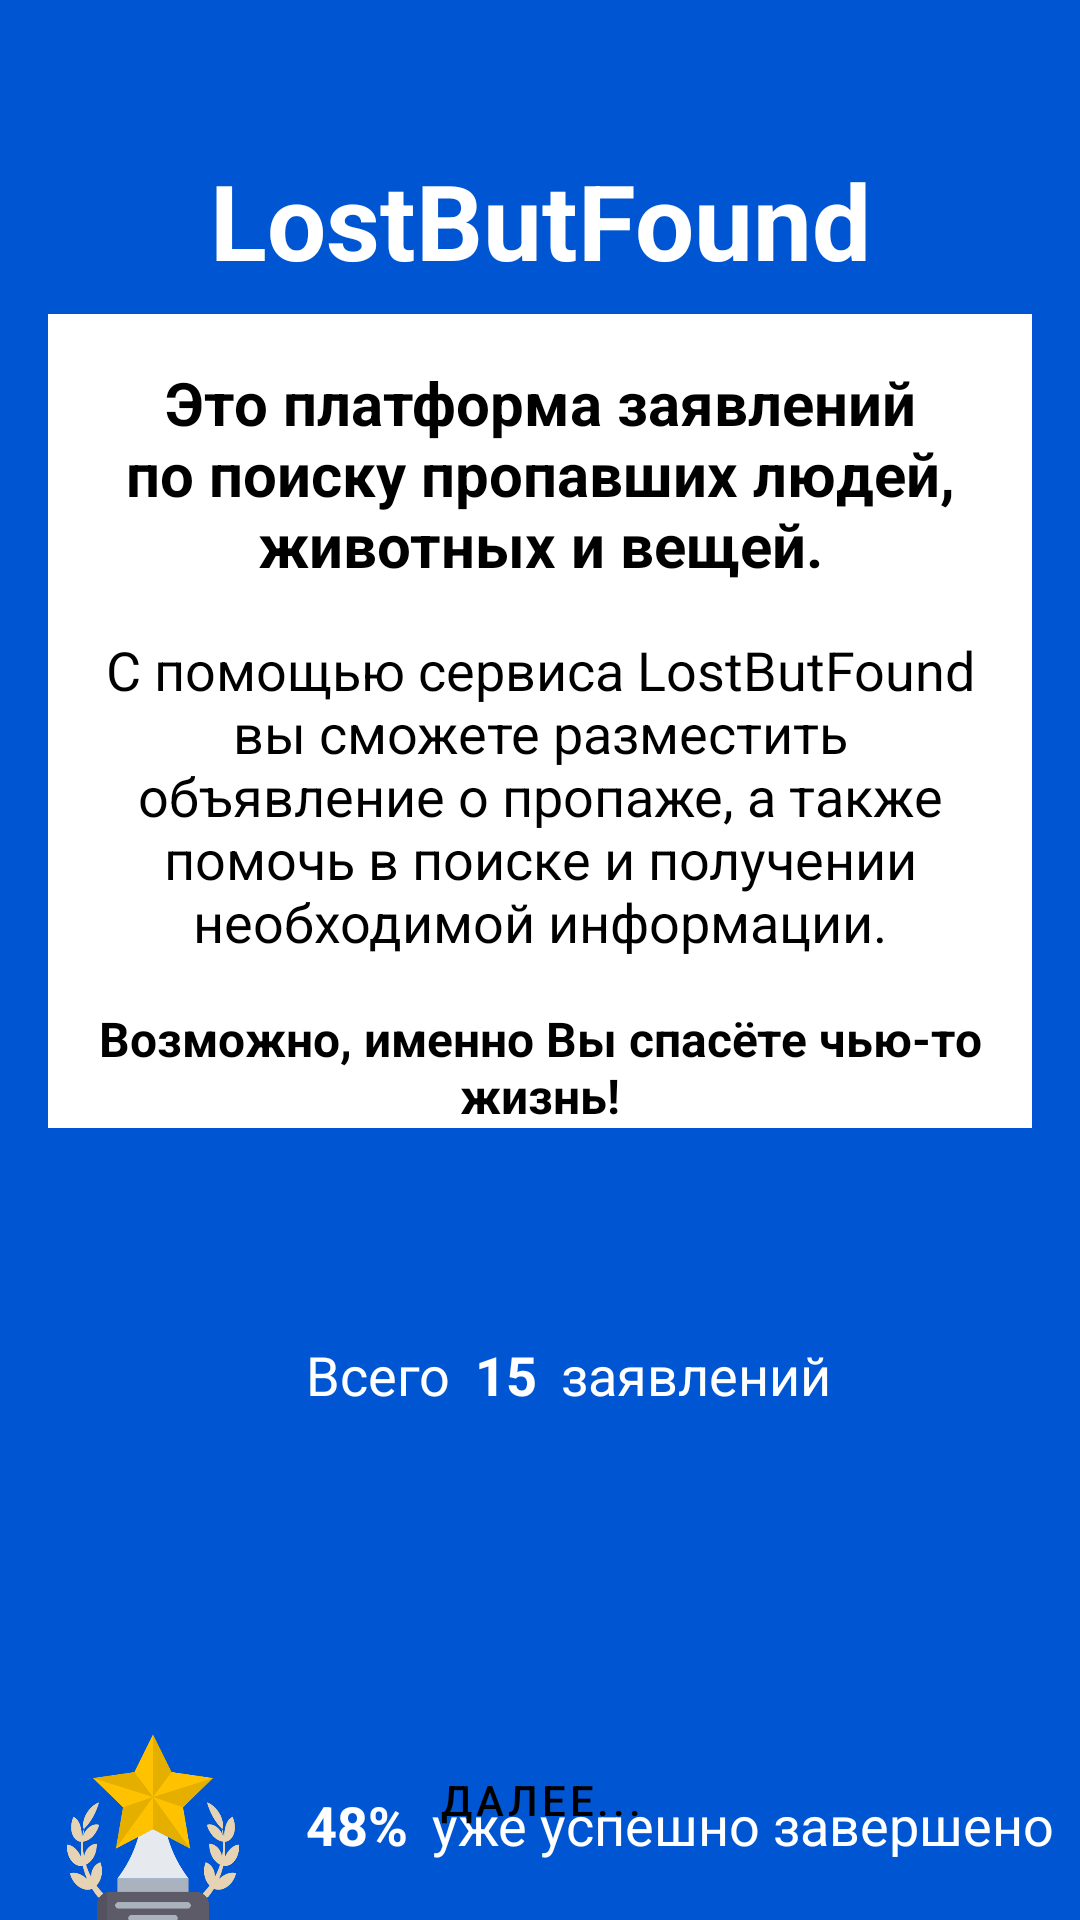

Icons on this 1080px×1920px Android screen, each with the point to tap as [x,y]:
success: [153,1827]
